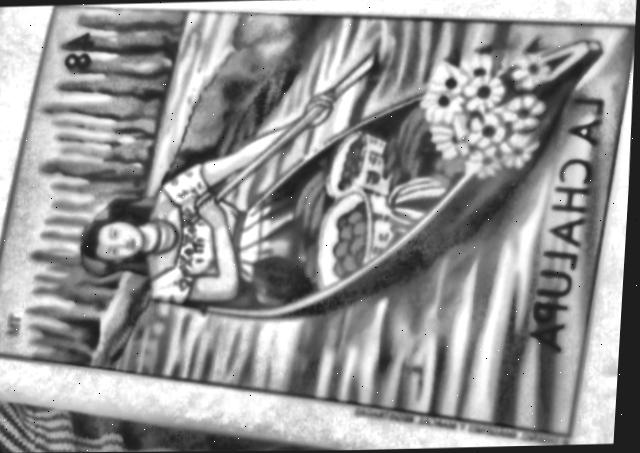La Chalupa: (0, 4, 635, 436)
